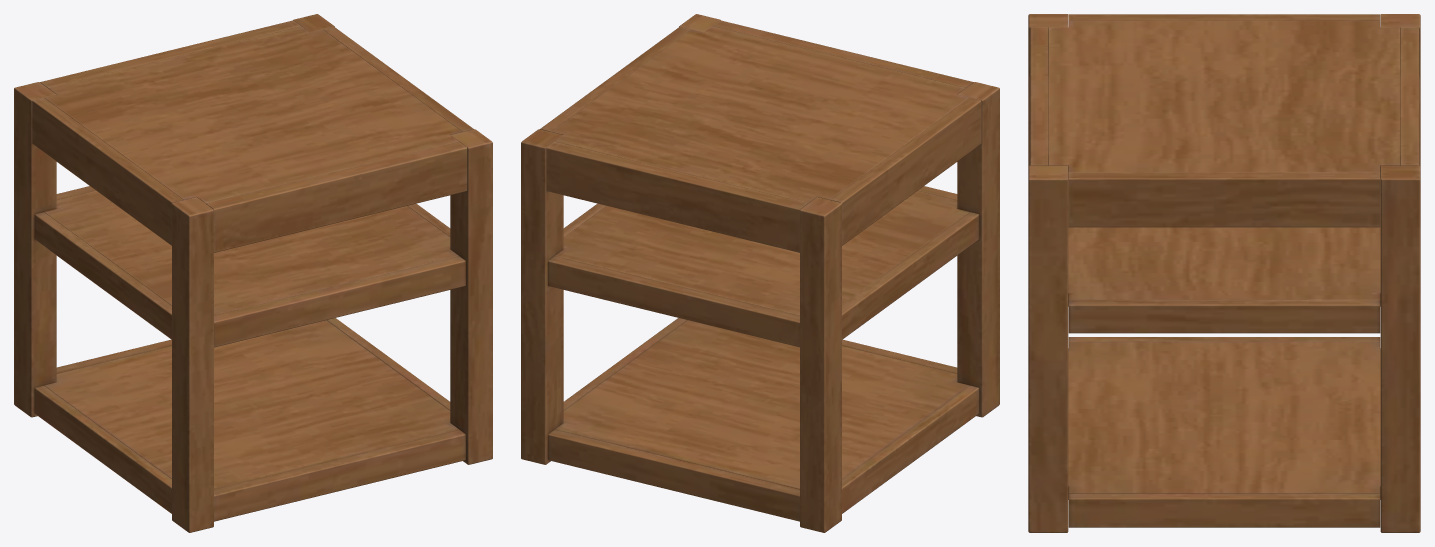
Rendered from ph-side-table-01.glb.
3 renders of one model, left to right at view 1: azimuth 30°, elevation 25°; view 2: azimuth 150°, elevation 25°; view 3: azimuth 270°, elevation 25°, orthographic. The views are drawn at different scales.
Visible parts, largest first — view 1: side_table_01; view 2: side_table_01; view 3: side_table_01.
Boxes of the visible parts, bbox=[...] form: side_table_01: bbox=[14, 14, 492, 532]; side_table_01: bbox=[521, 14, 999, 532]; side_table_01: bbox=[1028, 14, 1420, 532].
Size of the model in its own units: 1 by 1 by 1.
Materials: 1 (1 with a texture image).
